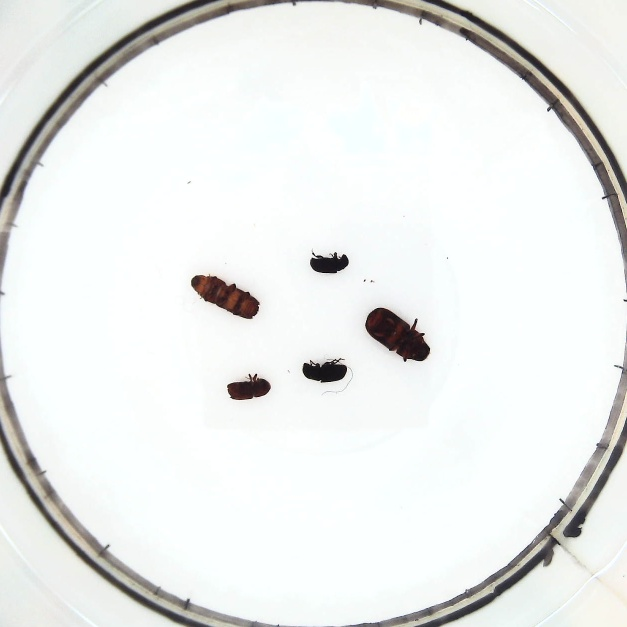armandi: (299, 357, 354, 383)
boerner: (185, 272, 261, 323)
coleoptera: (306, 250, 350, 278)
leconte: (363, 306, 433, 363)
linnaeus: (224, 370, 274, 403)
